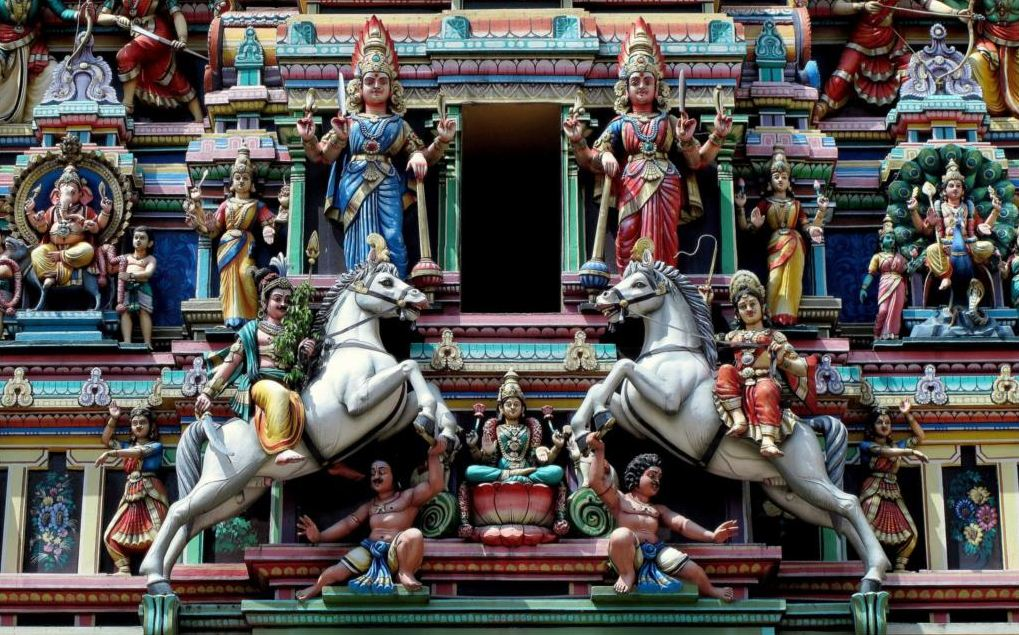Buddhist Temple: (1, 1, 1019, 610)
